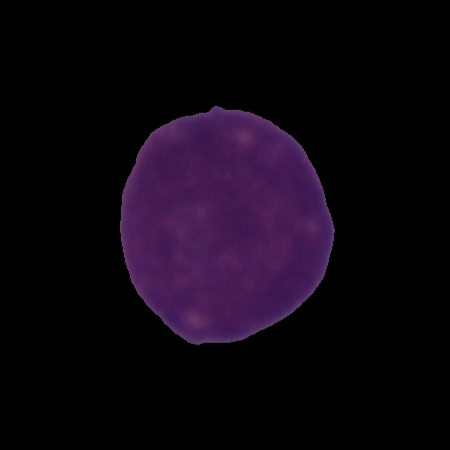ALL: (115, 102, 339, 350)
